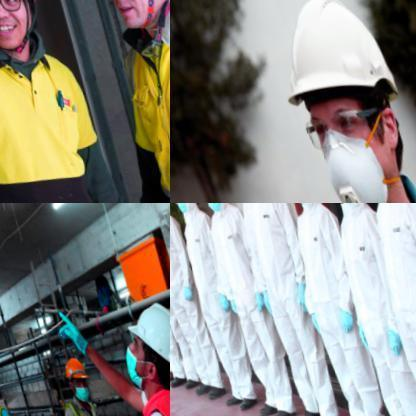vest: (231, 203, 340, 408), (283, 203, 388, 415), (329, 203, 415, 415), (204, 205, 288, 400), (176, 209, 252, 390), (363, 203, 415, 415), (170, 210, 216, 380), (170, 223, 183, 362), (60, 394, 119, 415)
